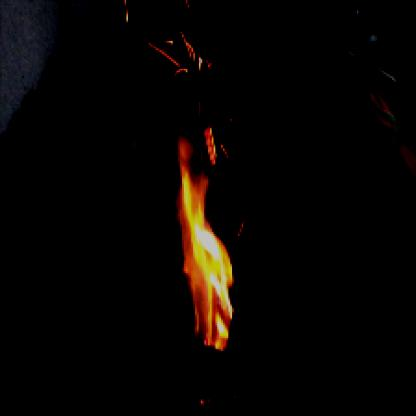Fire: (171, 117, 241, 355)
